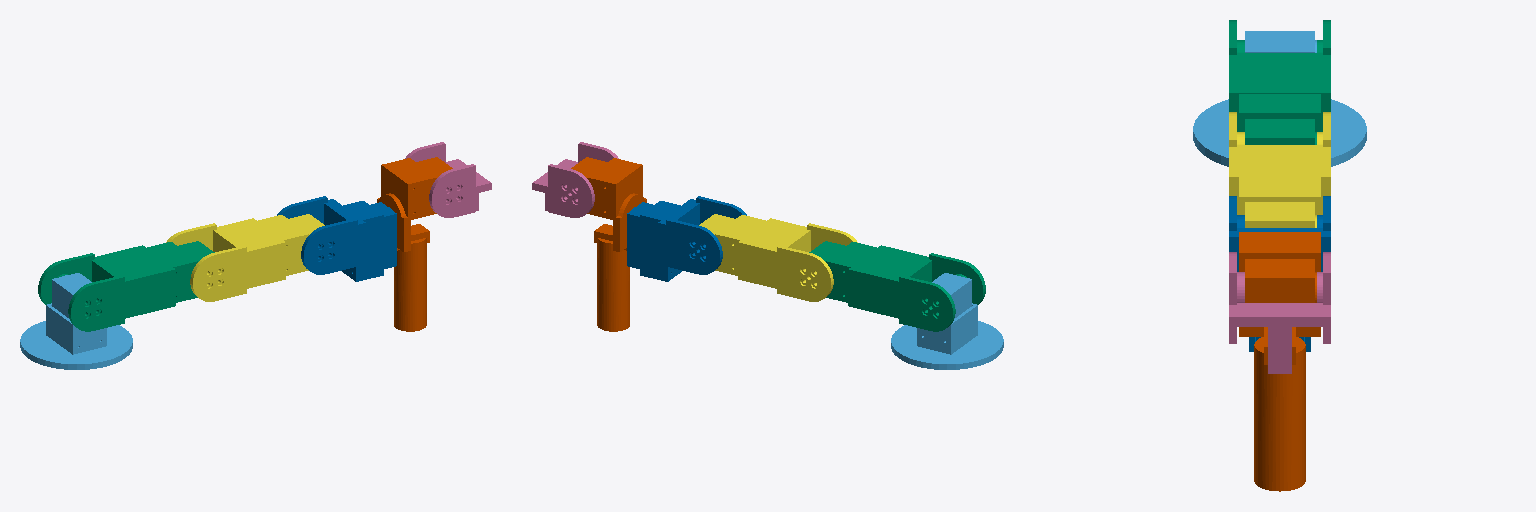
URDF robot description (hs_arm_a_rev_b_leader):
<?xml version="1.0"?>
<robot name="hs_arm_a_rev_b_leader">
  <!-- Generated by projects/hs-arm-a/build_arm.py. Masses: printed PLA at assumed density and fill plus cited servo masses. Inertia: box proxy from mesh extents. Joint limits come from motion_sweep (see verification.json). -->
  <link name="base_link">
    <inertial><origin xyz="-0.00418 0.00000 0.01292"/><mass value="0.1934"/><inertia ixx="3.916e-04" iyy="3.916e-04" izz="7.252e-04" ixy="0" ixz="0" iyz="0"/></inertial>
    <visual><geometry><mesh filename="meshes/base_link.stl" scale="0.001 0.001 0.001"/></geometry></visual>
    <collision><geometry><mesh filename="meshes/base_link.stl" scale="0.001 0.001 0.001"/></geometry></collision>
  </link>
  <link name="turntable_link">
    <inertial><origin xyz="0.00000 0.00009 0.02303"/><mass value="0.0871"/><inertia ixx="7.683e-05" iyy="7.714e-05" izz="1.121e-04" ixy="0" ixz="0" iyz="0"/></inertial>
    <visual><geometry><mesh filename="meshes/turntable_link.stl" scale="0.001 0.001 0.001"/></geometry></visual>
    <collision><geometry><mesh filename="meshes/turntable_link.stl" scale="0.001 0.001 0.001"/></geometry></collision>
  </link>
  <link name="upper_arm_link">
    <inertial><origin xyz="0.07494 0.00003 -0.00000"/><mass value="0.0950"/><inertia ixx="3.358e-05" iyy="1.682e-04" izz="1.764e-04" ixy="0" ixz="0" iyz="0"/></inertial>
    <visual><geometry><mesh filename="meshes/upper_arm_link.stl" scale="0.001 0.001 0.001"/></geometry></visual>
    <collision><geometry><mesh filename="meshes/upper_arm_link.stl" scale="0.001 0.001 0.001"/></geometry></collision>
  </link>
  <link name="forearm_link">
    <inertial><origin xyz="0.06808 0.00003 0.00000"/><mass value="0.0916"/><inertia ixx="3.238e-05" iyy="1.415e-04" izz="1.495e-04" ixy="0" ixz="0" iyz="0"/></inertial>
    <visual><geometry><mesh filename="meshes/forearm_link.stl" scale="0.001 0.001 0.001"/></geometry></visual>
    <collision><geometry><mesh filename="meshes/forearm_link.stl" scale="0.001 0.001 0.001"/></geometry></collision>
  </link>
  <link name="wrist_link">
    <inertial><origin xyz="0.04441 -0.00006 -0.00974"/><mass value="0.0840"/><inertia ixx="4.245e-05" iyy="8.443e-05" izz="7.896e-05" ixy="0" ixz="0" iyz="0"/></inertial>
    <visual><geometry><mesh filename="meshes/wrist_link.stl" scale="0.001 0.001 0.001"/></geometry></visual>
    <collision><geometry><mesh filename="meshes/wrist_link.stl" scale="0.001 0.001 0.001"/></geometry></collision>
  </link>
  <link name="gripper_link">
    <inertial><origin xyz="0.02416 0.00008 -0.00329"/><mass value="0.1030"/><inertia ixx="1.663e-04" iyy="1.750e-04" izz="3.898e-05" ixy="0" ixz="0" iyz="0"/></inertial>
    <visual><geometry><mesh filename="meshes/gripper_link.stl" scale="0.001 0.001 0.001"/></geometry></visual>
    <collision><geometry><mesh filename="meshes/gripper_link.stl" scale="0.001 0.001 0.001"/></geometry></collision>
  </link>
  <link name="jaw_link">
    <inertial><origin xyz="0.01060 -0.00033 -0.00187"/><mass value="0.0146"/><inertia ixx="6.256e-06" iyy="6.582e-06" izz="6.755e-06" ixy="0" ixz="0" iyz="0"/></inertial>
    <visual><geometry><mesh filename="meshes/jaw_link.stl" scale="0.001 0.001 0.001"/></geometry></visual>
    <collision><geometry><mesh filename="meshes/jaw_link.stl" scale="0.001 0.001 0.001"/></geometry></collision>
  </link>
  <joint name="base_yaw" type="revolute"><parent link="base_link"/><child link="turntable_link"/>
    <origin xyz="0.00000 0.00000 0.04140" rpy="0 0 0"/><axis xyz="0 0 1"/>
    <limit lower="-2.61799" upper="2.61799" effort="0" velocity="1.0"/></joint>
  <joint name="shoulder" type="revolute"><parent link="turntable_link"/><child link="upper_arm_link"/>
    <origin xyz="0.00000 0.00000 0.04450" rpy="0 0 0"/><axis xyz="0 1 0"/>
    <limit lower="-2.61799" upper="0.26180" effort="1.61809725" velocity="1.0"/></joint>
  <joint name="elbow" type="revolute"><parent link="upper_arm_link"/><child link="forearm_link"/>
    <origin xyz="0.11000 0.00000 0.00000" rpy="0 0 0"/><axis xyz="0 1 0"/>
    <limit lower="-1.83260" upper="1.48353" effort="0" velocity="1.0"/></joint>
  <joint name="wrist_pitch" type="revolute"><parent link="forearm_link"/><child link="wrist_link"/>
    <origin xyz="0.10000 0.00000 0.00000" rpy="0 0 0"/><axis xyz="0 1 0"/>
    <limit lower="-1.83260" upper="1.83260" effort="0" velocity="1.0"/></joint>
  <joint name="wrist_roll" type="revolute"><parent link="wrist_link"/><child link="gripper_link"/>
    <origin xyz="0.07200 0.00000 0.00000" rpy="0 0 0"/><axis xyz="1 0 0"/>
    <limit lower="-2.61799" upper="2.61799" effort="0" velocity="1.0"/></joint>
  <joint name="gripper" type="revolute"><parent link="gripper_link"/><child link="jaw_link"/>
    <origin xyz="0.04350 0.00000 0.02200" rpy="0 0 0"/><axis xyz="0 -1 0"/>
    <limit lower="0.00000" upper="1.22173" effort="0" velocity="1.0"/></joint>
</robot>

--- Facts derived from the render (not from the file) ---
Views: 3 orthographic renders of the robot side by side, from view 1: azimuth 30°, elevation 25°; view 2: azimuth 150°, elevation 25°; view 3: azimuth 270°, elevation 25°.
Robot: hs_arm_a_rev_b_leader — 7 links, 6 joints (6 revolute); root link base_link; default pose: every joint at zero.
Visible links, largest first — view 1: upper_arm_link, forearm_link, wrist_link, gripper_link, turntable_link, jaw_link; view 2: upper_arm_link, forearm_link, wrist_link, gripper_link, turntable_link, jaw_link; view 3: gripper_link, upper_arm_link, forearm_link, turntable_link, jaw_link, wrist_link.
Boxes of the visible links, x1,y1,x2,y2 form: upper_arm_link: (38,241,214,331); forearm_link: (166,214,324,301); wrist_link: (277,196,396,281); gripper_link: (377,157,452,331); turntable_link: (20,273,132,369); jaw_link: (405,142,491,217); upper_arm_link: (809,241,985,331); forearm_link: (699,214,857,301); wrist_link: (627,196,746,281); gripper_link: (571,157,646,331); turntable_link: (891,273,1003,369); jaw_link: (532,142,618,217); gripper_link: (1239,232,1320,491); upper_arm_link: (1229,20,1330,144); forearm_link: (1229,112,1330,227); turntable_link: (1193,31,1366,166); jaw_link: (1229,252,1330,373); wrist_link: (1229,196,1330,351).
Bounding box of the posed robot: 0.4035 × 0.0878 × 0.137 m (x, y, z).
6 mesh visuals loaded from 7 distinct referenced files (6 binary STL); not drawn: 1 (reference not matched to a file when rendering).
